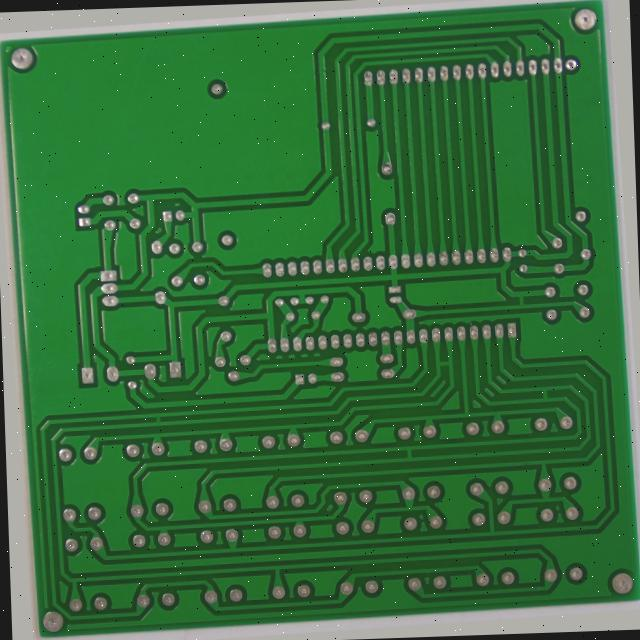short: (517, 292, 536, 317), (540, 391, 555, 414), (399, 450, 415, 471), (434, 361, 456, 376), (140, 407, 155, 425)
